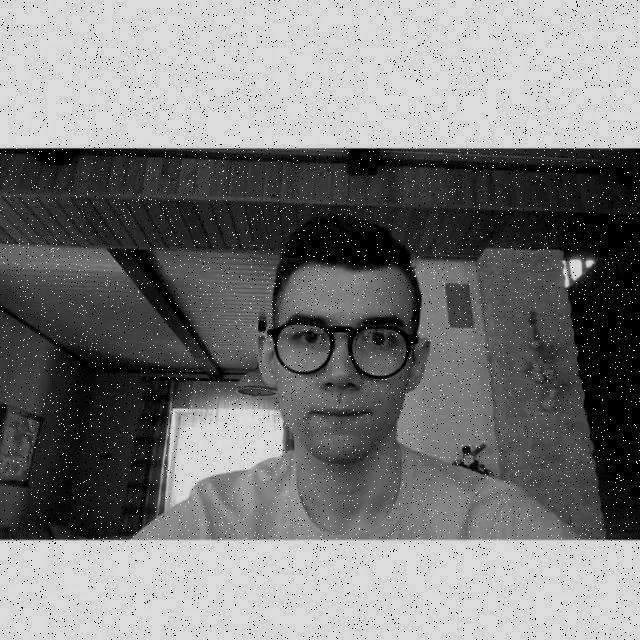real: (270, 268, 415, 464)
